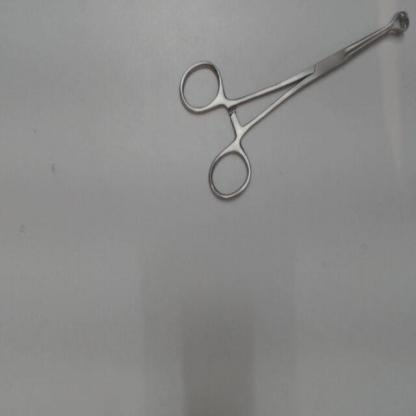Babcock Tissue Forceps: (175, 7, 413, 204)
